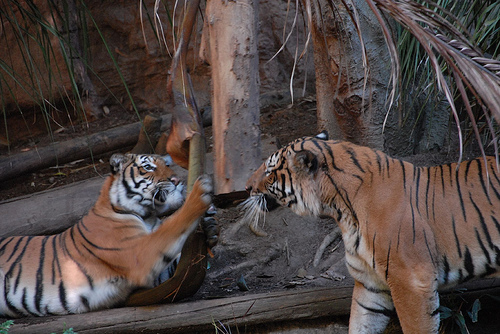Tigre: (253, 135, 496, 279), (10, 148, 218, 303)
